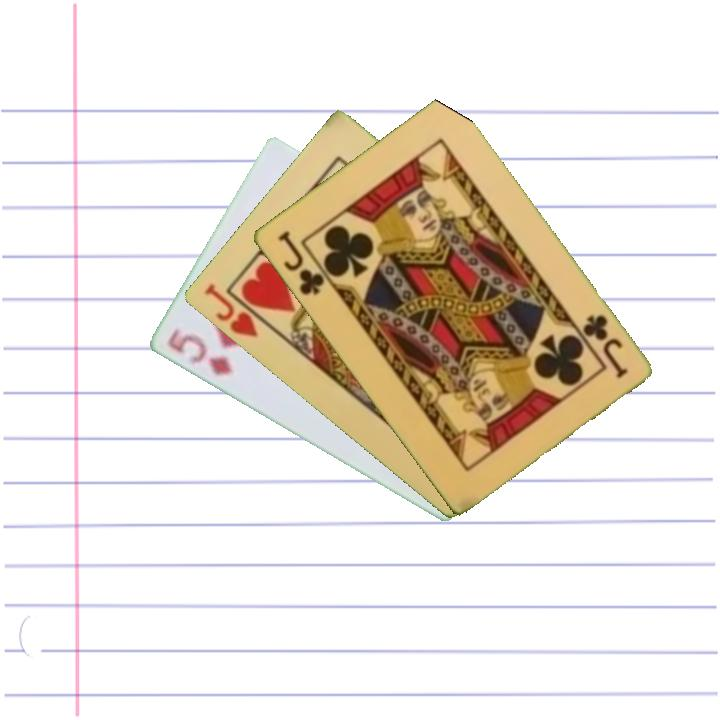5d: (163, 324, 236, 379)
Jc: (274, 227, 327, 299), (578, 310, 630, 381)
Jh: (199, 280, 261, 341)
